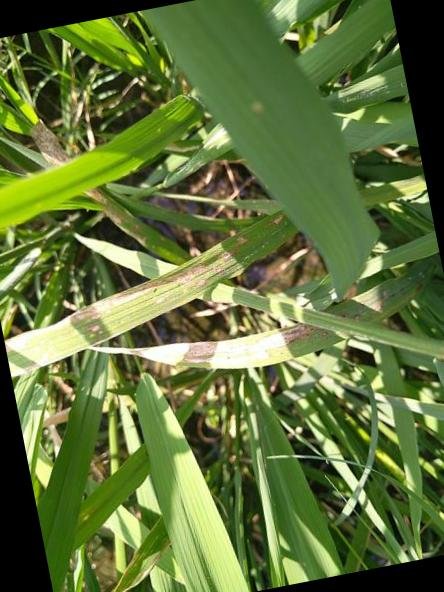Leaf Streak: (4, 210, 297, 376), (90, 321, 344, 368), (85, 185, 191, 265), (324, 253, 441, 321), (104, 518, 171, 592), (30, 118, 75, 165)
